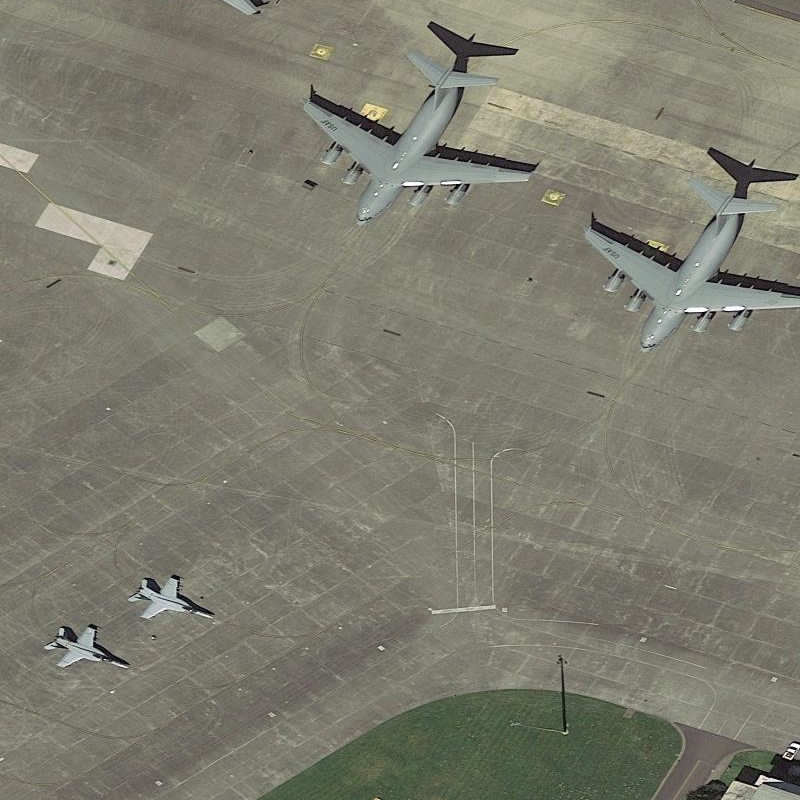A16: (121, 562, 223, 629), (37, 618, 136, 678)
A3: (298, 43, 537, 233), (575, 164, 800, 359)
